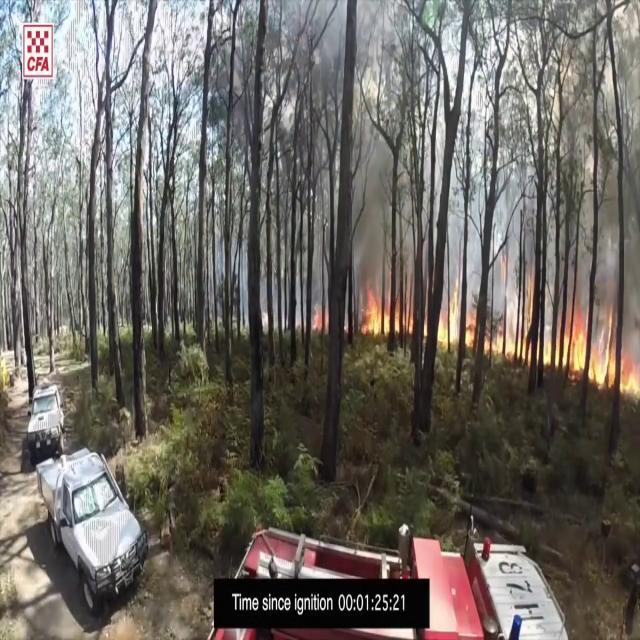Fire: (564, 298, 640, 402), (358, 287, 411, 342), (439, 282, 471, 344)
Smoke: (570, 79, 640, 300), (342, 110, 402, 284)
